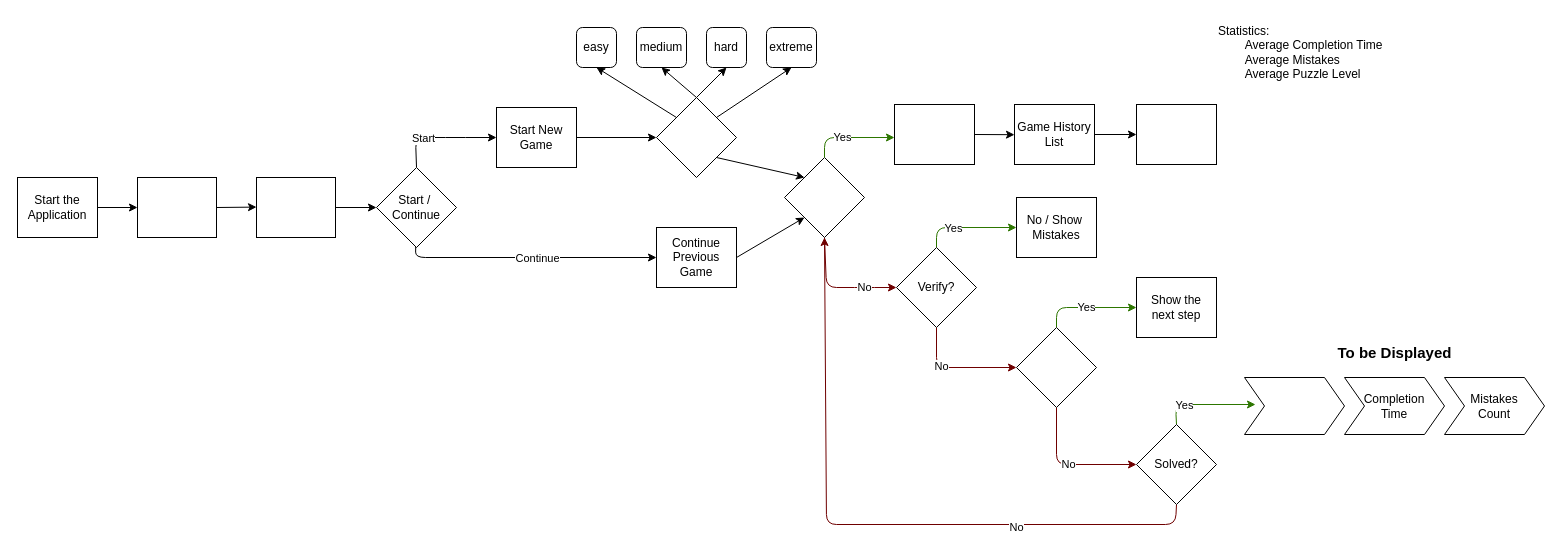
The diagram is 1562 pixels wide and 550 high, and some of its shapes have lost their labels. Each missing label, with the box of its shape:
Change Theme: (256, 176, 336, 238)
Choose Level: (656, 96, 736, 178)
Congrats!: (1244, 376, 1344, 434)
Hint?: (1016, 326, 1096, 408)
Landing Page: (136, 176, 216, 238)
Pause?: (784, 156, 864, 238)
Save the progress: (894, 104, 974, 164)
Statistics: (1136, 104, 1216, 164)
